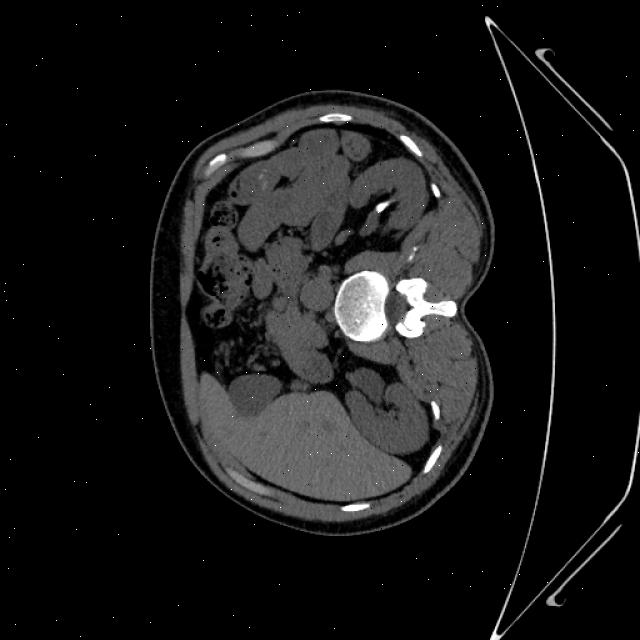kidneystone: (375, 199, 394, 211)
